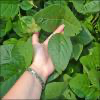Soyabean leaf: (46, 32, 74, 76), (33, 3, 66, 35), (61, 3, 83, 39)
